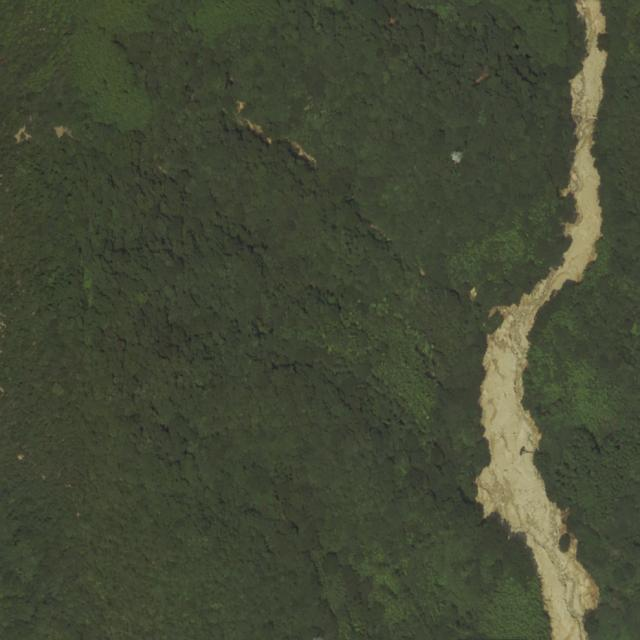landslide: (478, 0, 608, 640)
